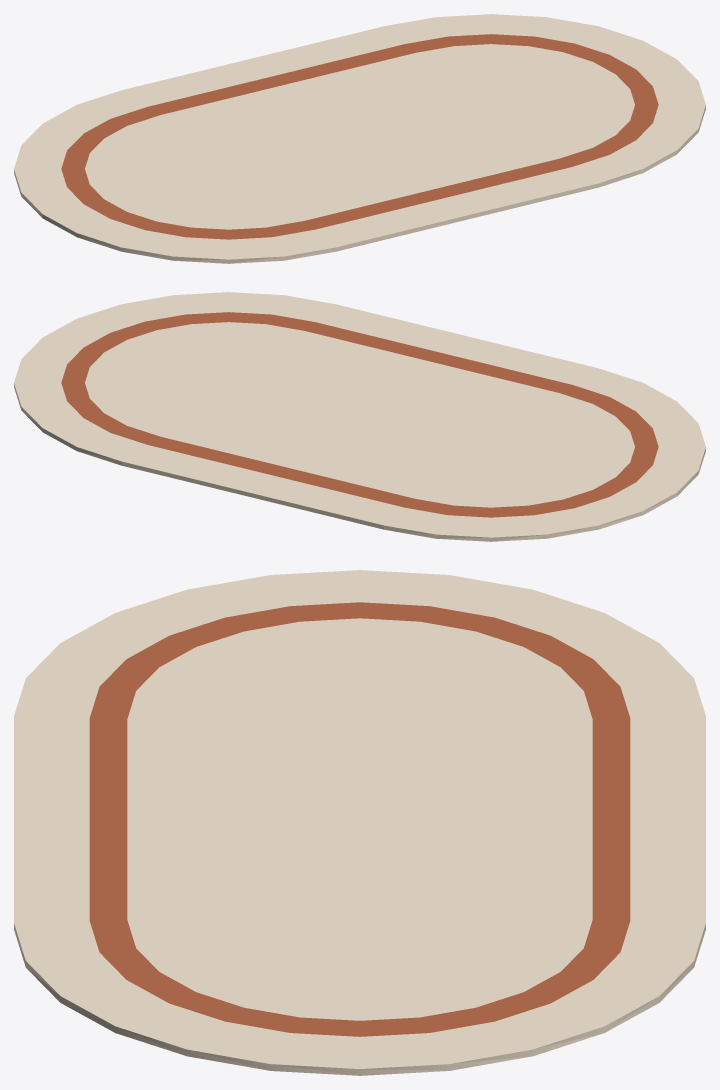
File: kitRugRounded.glb
3 views of the same model, one above another, from view 1: azimuth 30°, elevation 25°; view 2: azimuth 150°, elevation 25°; view 3: azimuth 270°, elevation 25° (orthographic). The views are drawn at different scales.
Visible parts, largest first — view 1: kitRugRounded_fabric, kitRugRounded_fabricDark; view 2: kitRugRounded_fabric, kitRugRounded_fabricDark; view 3: kitRugRounded_fabric, kitRugRounded_fabricDark.
Boxes of the visible parts, left/top/right/bottom form: kitRugRounded_fabric: left=14, top=14, right=705, bottom=263; kitRugRounded_fabricDark: left=61, top=34, right=658, bottom=239; kitRugRounded_fabric: left=14, top=292, right=705, bottom=541; kitRugRounded_fabricDark: left=61, top=312, right=658, bottom=517; kitRugRounded_fabric: left=14, top=570, right=705, bottom=1075; kitRugRounded_fabricDark: left=89, top=602, right=630, bottom=1036.
Size of the model in its own units: 2.96 by 0.0189 by 1.73.
